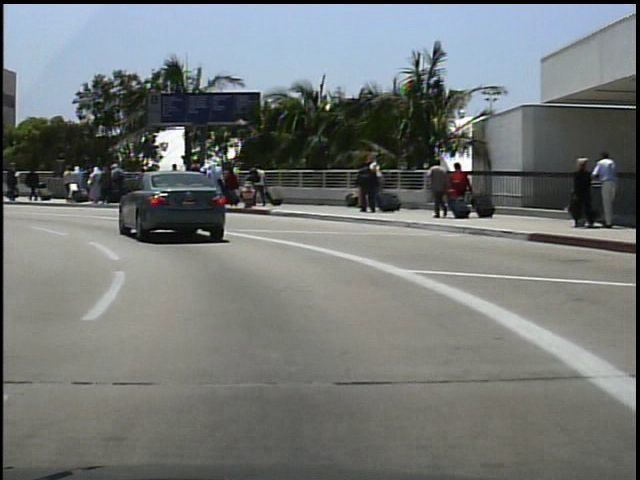person: (589, 149, 623, 229), (564, 155, 595, 233), (425, 159, 451, 223), (354, 158, 379, 216), (447, 161, 470, 218), (4, 157, 24, 202), (254, 160, 270, 208), (24, 165, 42, 203), (10, 165, 27, 203)
